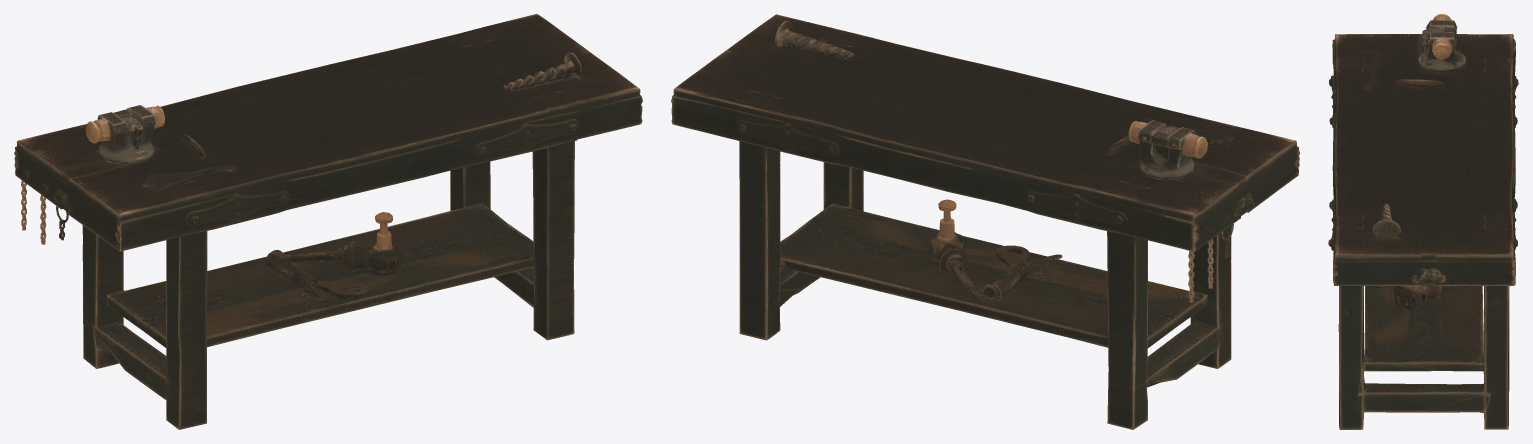
File: workbench.glb
3 views of the same model, side by side, from view 1: azimuth 30°, elevation 25°; view 2: azimuth 150°, elevation 25°; view 3: azimuth 270°, elevation 25° (orthographic). The views are drawn at different scales.
Bounding box in the file's own units: 1.9 × 0.9197 × 0.6673.
1 material, 1 textured.
